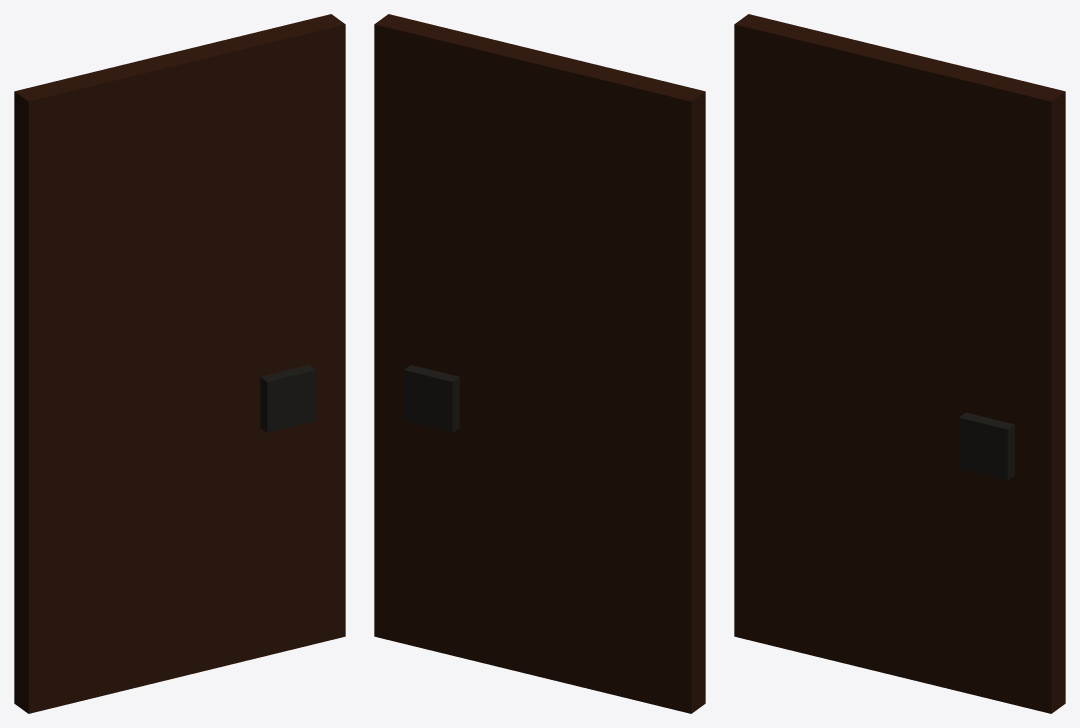
The model's file is Door.FBX.
The picture shows the model from 3 angles, left to right: view 1: azimuth 30°, elevation 25°; view 2: azimuth 150°, elevation 25°; view 3: azimuth 330°, elevation 25°; orthographic projection.
Visible parts, largest first — view 1: Door; view 2: Door; view 3: Door.
Part boxes in pixels (left/top/right/bottom): Door: left=14, top=14, right=345, bottom=713; Door: left=374, top=14, right=705, bottom=713; Door: left=734, top=14, right=1065, bottom=713.
Size of the model in its own units: 13 by 24 by 2.
